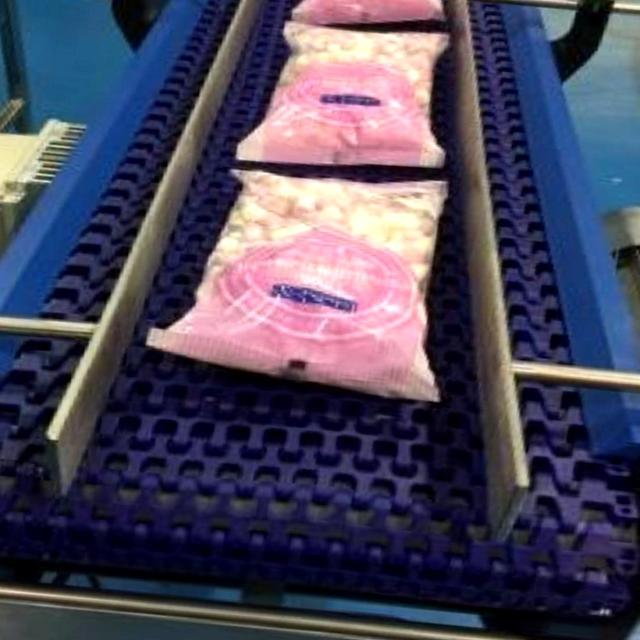food: (143, 167, 451, 404), (232, 18, 452, 170)
